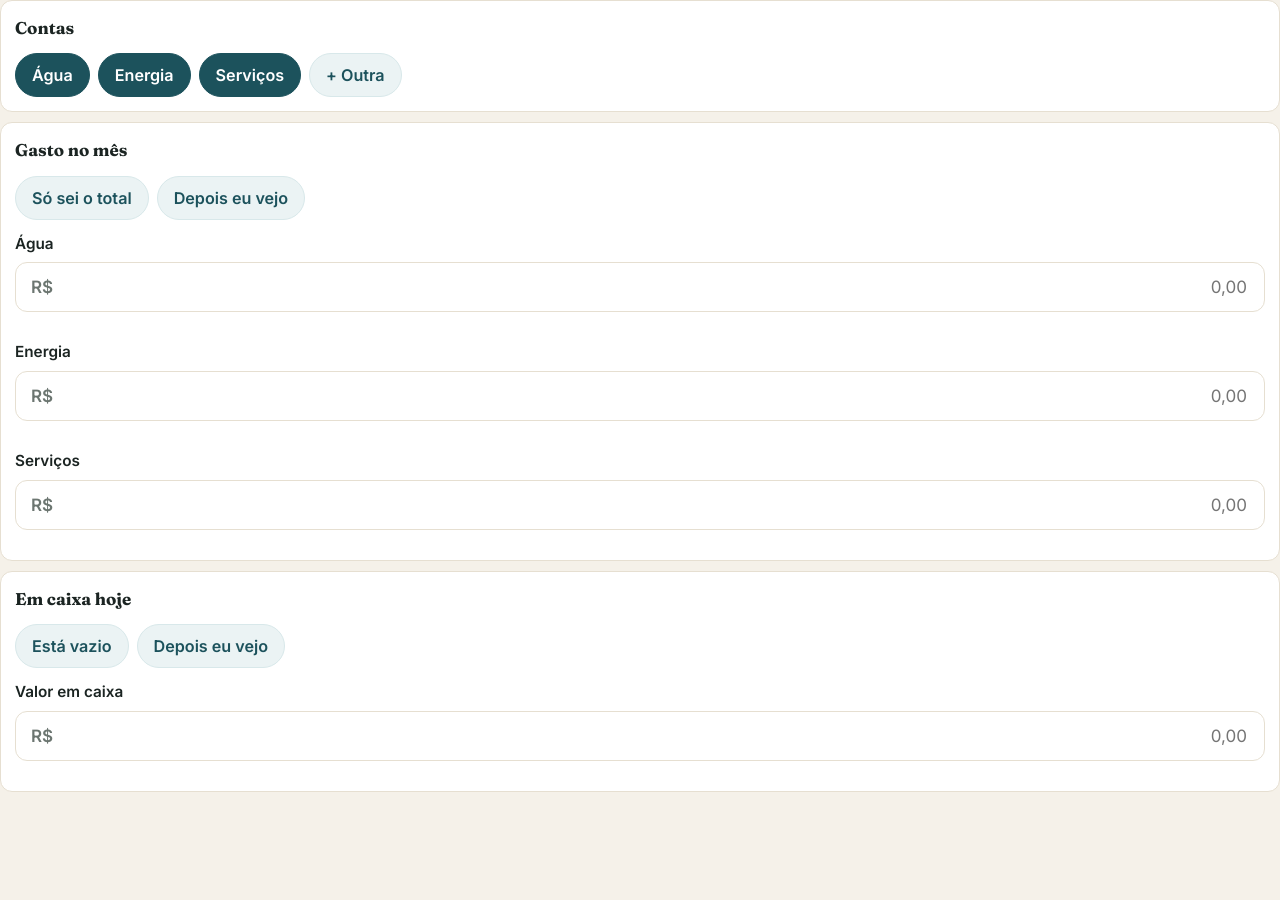
Scenario: GroundStep › spend per category, total only, or later
The image size is (1280, 900).
Step 1. Type "34800" into the field labelled "Água" → (655, 287), box left=61, top=276, right=1249, bottom=298
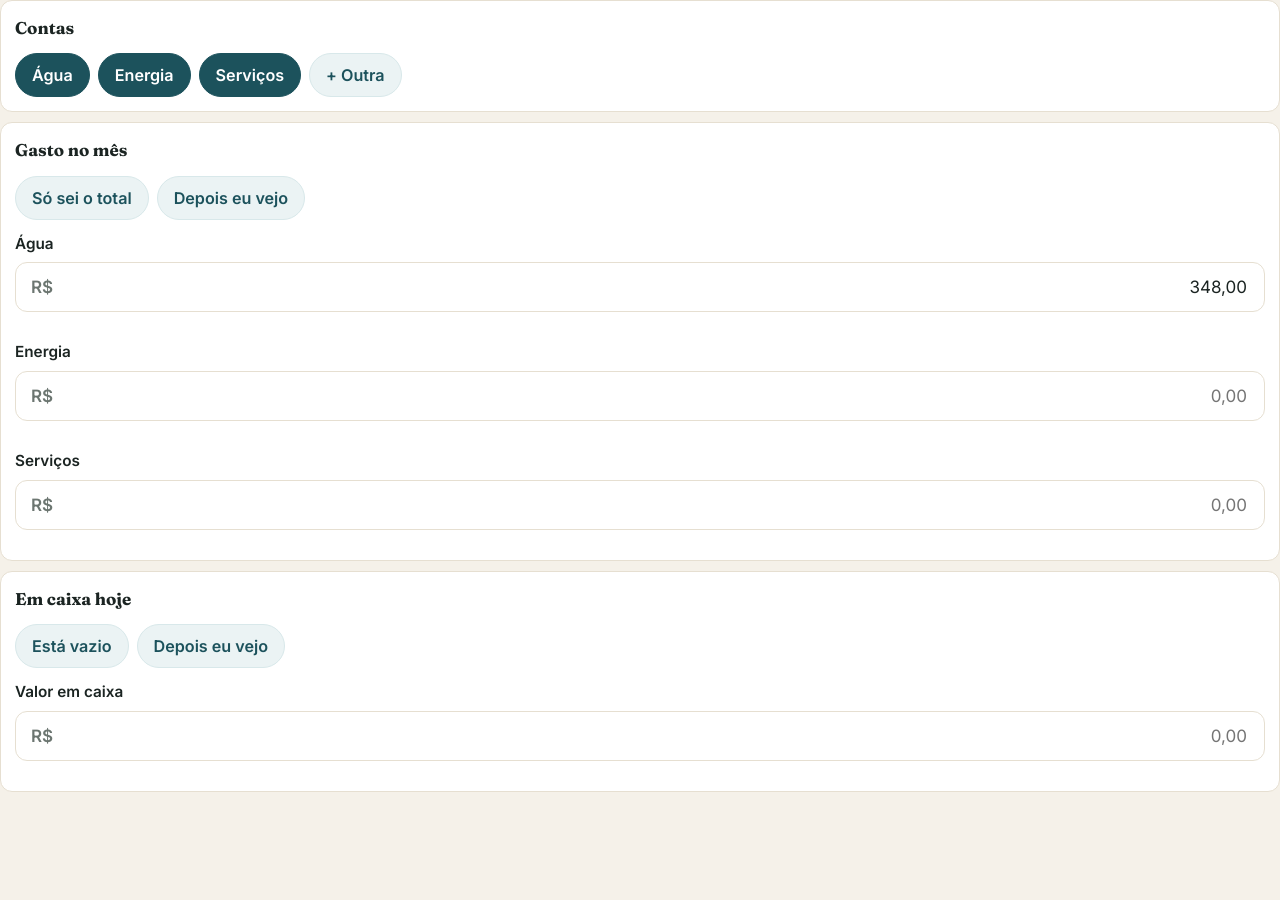
Step 2. Click the button "Só sei o total" → (82, 198), box left=15, top=176, right=149, bottom=220
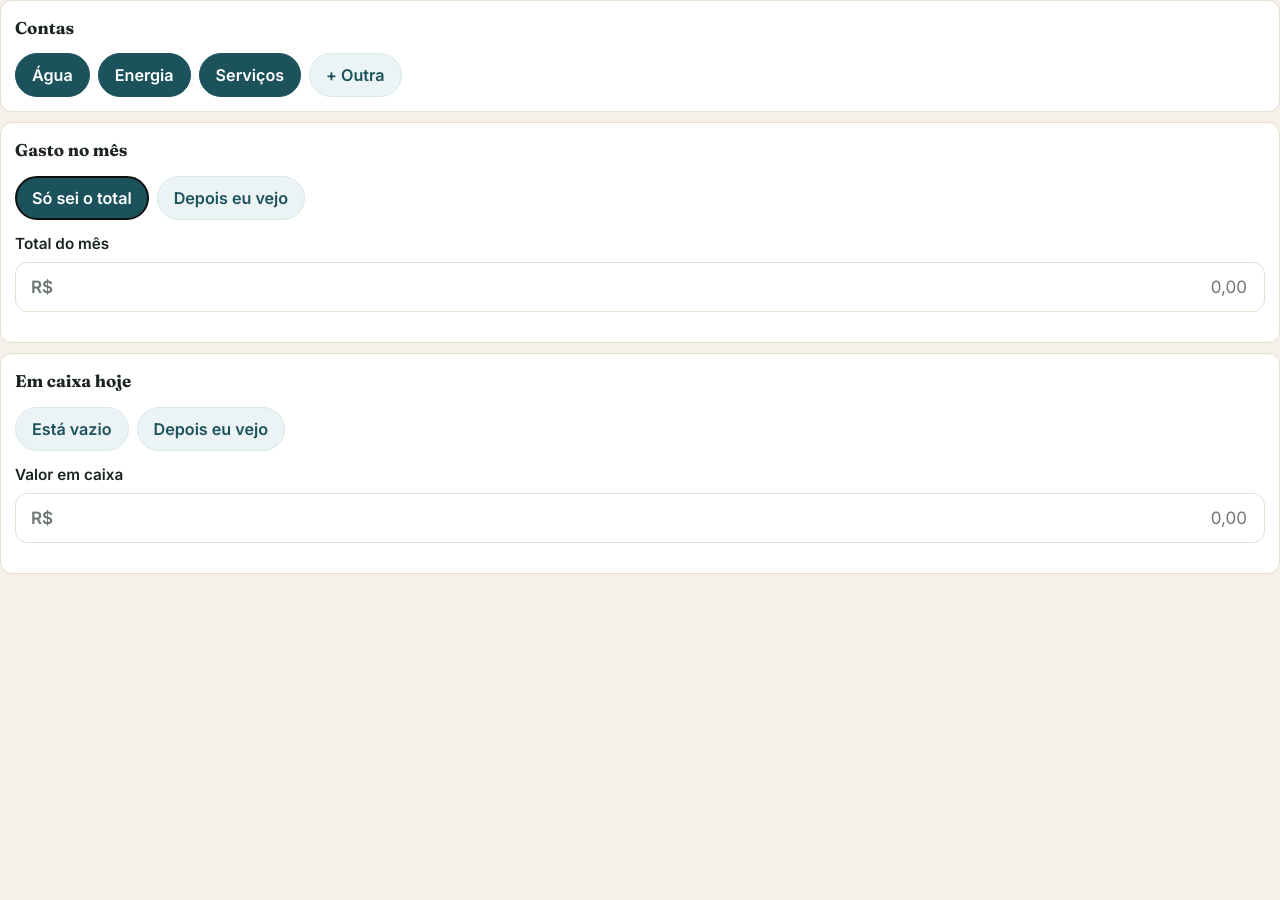
Step 3. Type "50000" into the field labelled "Total do mês" → (655, 287), box left=61, top=276, right=1249, bottom=298
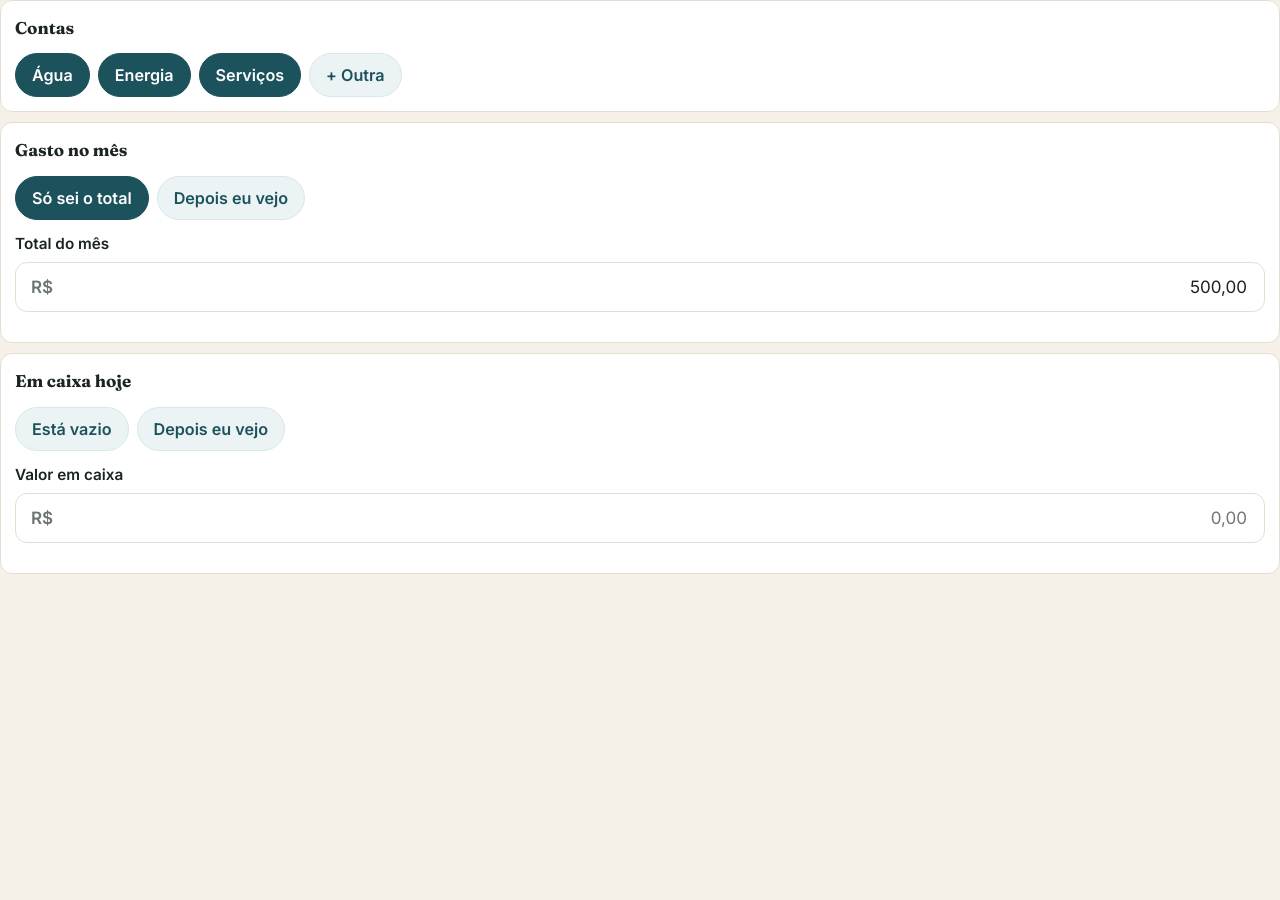
Step 4. Click the button "Só sei o total" → (82, 198), box left=15, top=176, right=149, bottom=220
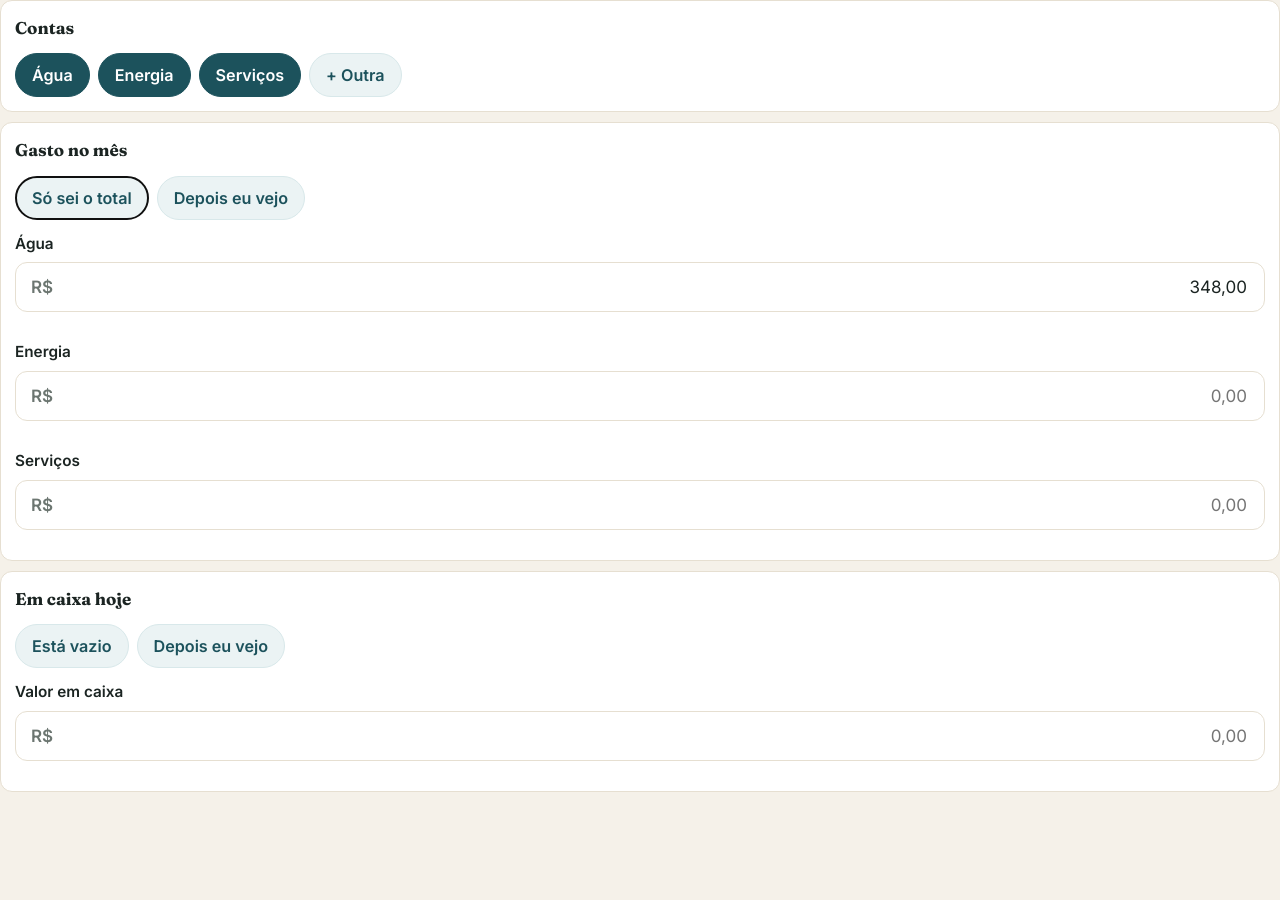
Result: the field labelled "Água" is shown at left=61, top=276, right=1249, bottom=298
Step 5. Click the button "Depois eu vejo" below "Gasto no mês" → (231, 198), box left=157, top=176, right=305, bottom=220
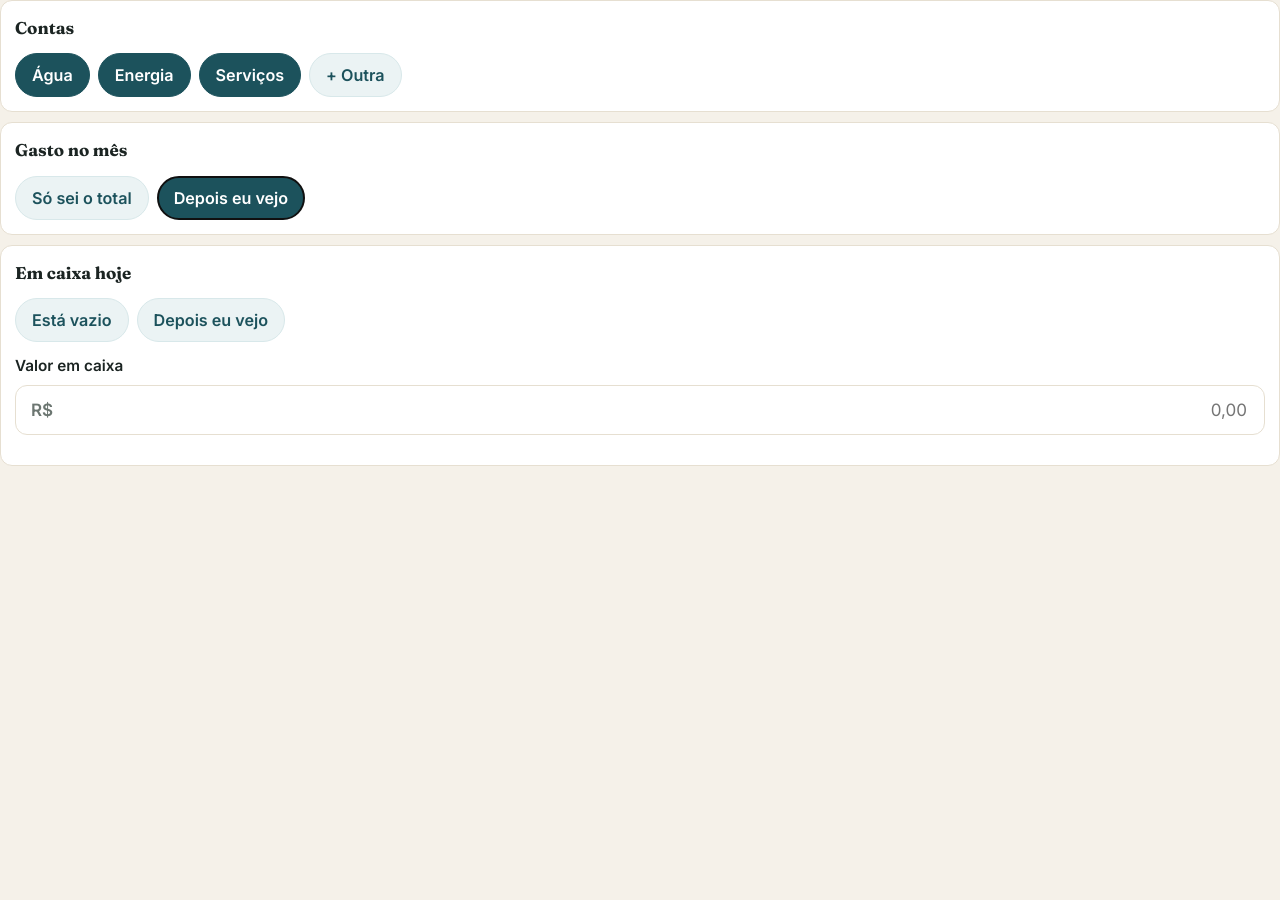
Step 6. Click the button "Depois eu vejo" below "Gasto no mês" → (231, 198), box left=157, top=176, right=305, bottom=220
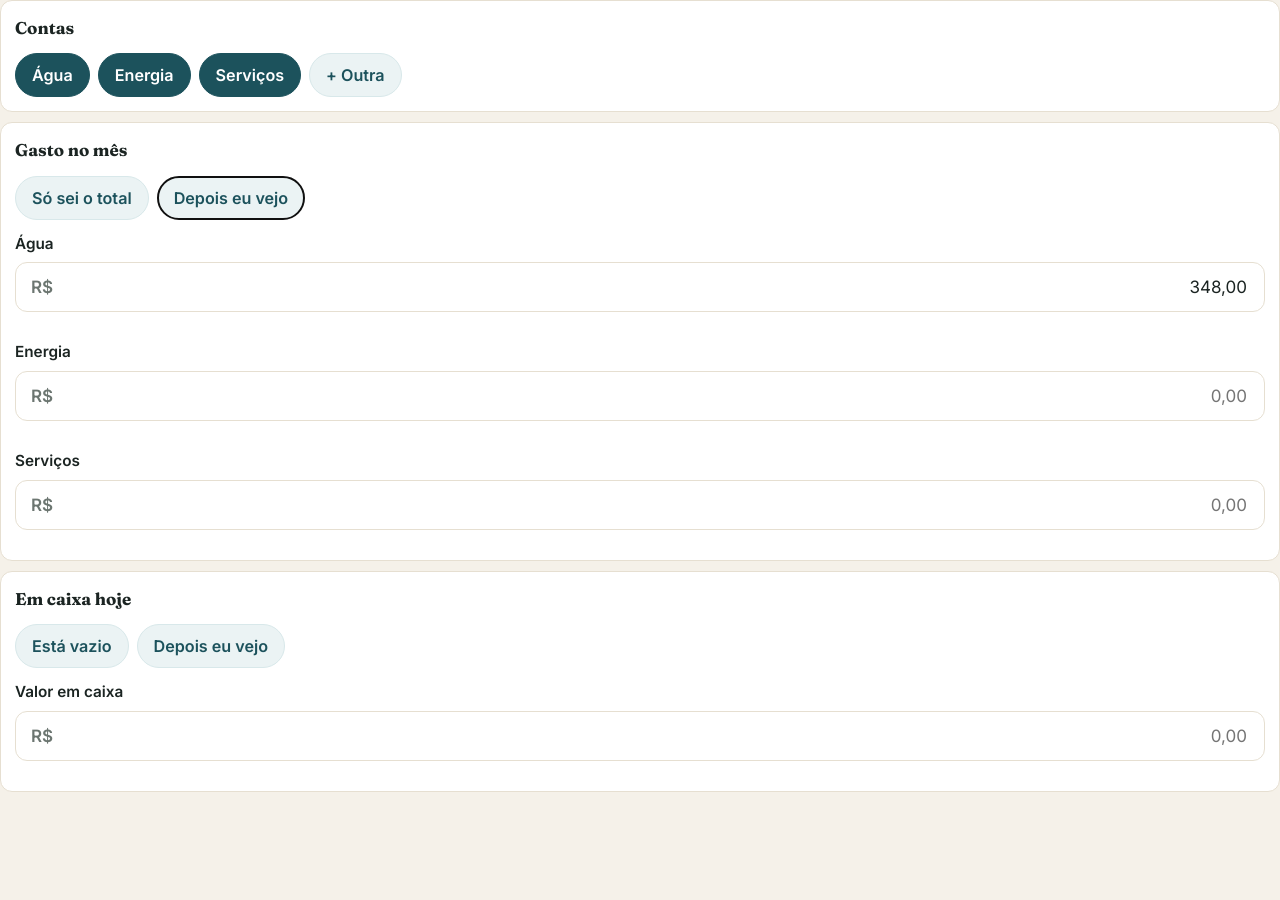
Result: the field labelled "Água" is shown at left=61, top=276, right=1249, bottom=298
